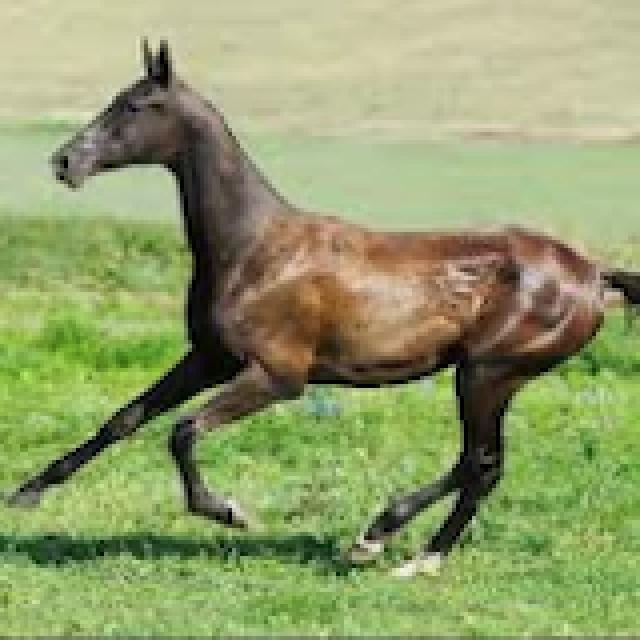Horse: (0, 28, 636, 580)
